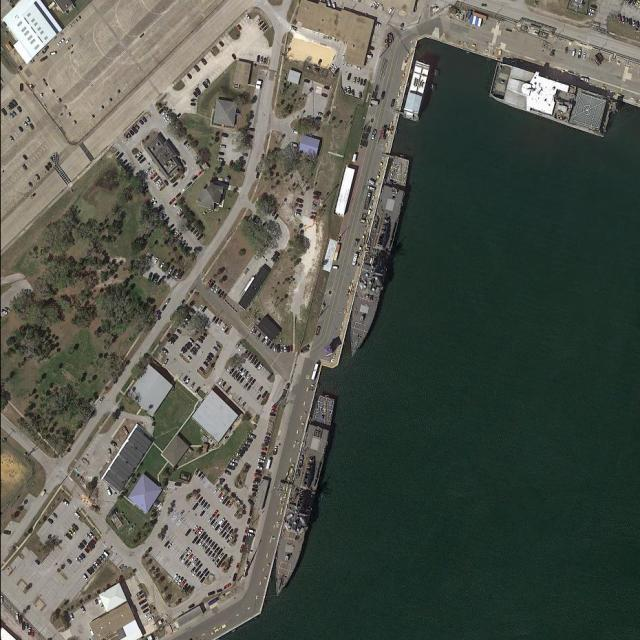Auxiliary Ships: (484, 59, 619, 139)
Destroyer: (342, 154, 412, 361), (268, 392, 336, 600)
